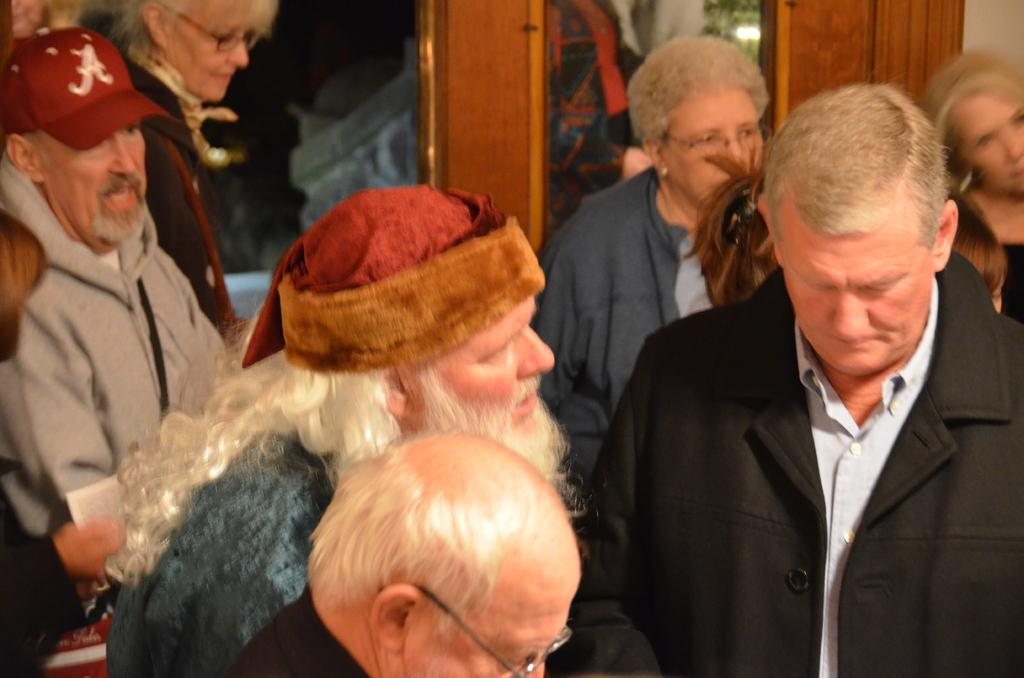Hat: (0, 29, 172, 153)
